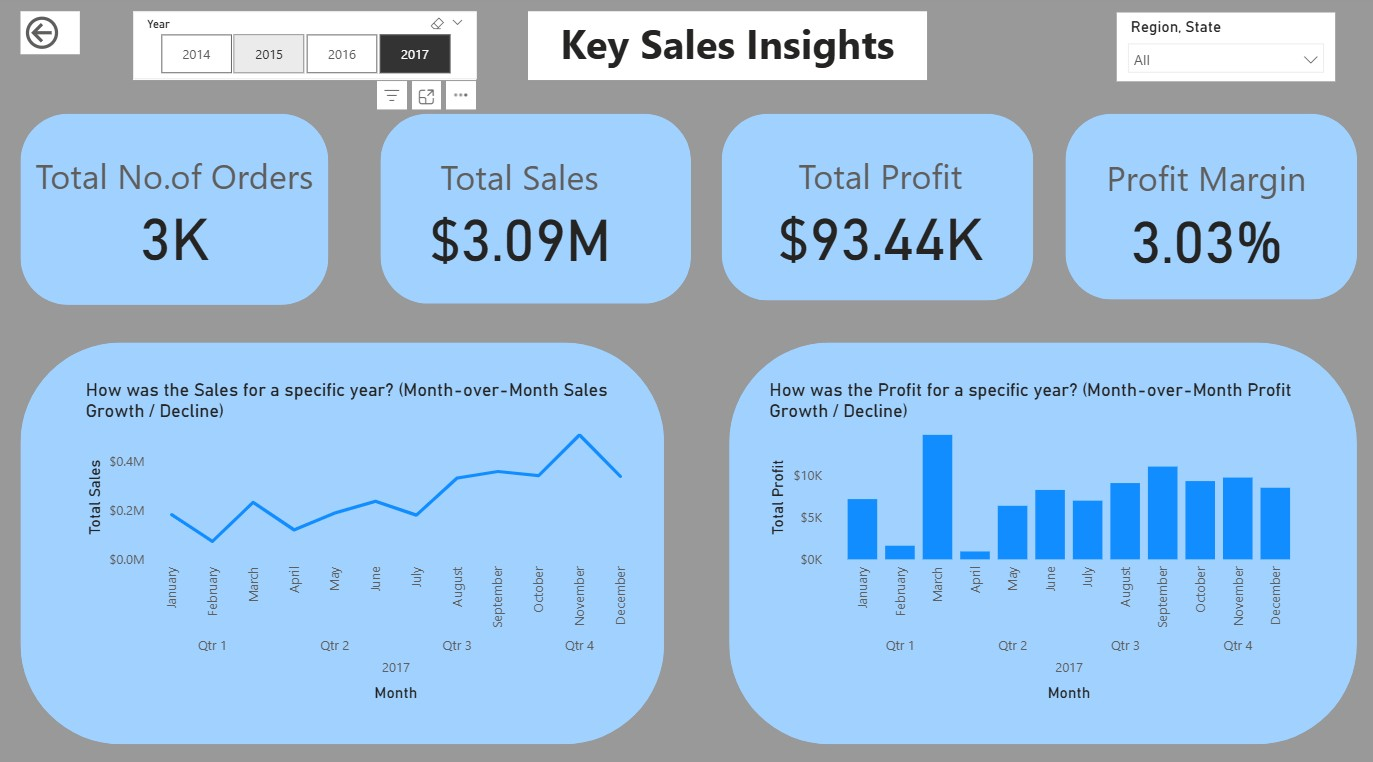

What the dashboard file says about the page in this screenshot:
{"tool":"powerbi","page":{"name":"Key Sales Insight","canvas":[1280,720],"ordinal":1},"visuals":[{"type":"shape","box":[992.7,111,271.2,172.8],"z":0,"group":"g2"},{"type":"shape","box":[680,323.8,583.8,373.8],"z":0},{"type":"shape","box":[673.6,111,289.8,173.8],"z":1000,"group":"g1"},{"type":"shape","box":[21.2,323.8,598.8,373.8],"z":1000},{"type":"lineChart","title":"How was the Sales Trend?","fields":{"Y":["_All Measures.Total Sales"],"Category":["Date Table (Order Date).Date.Variation.Date Hierarchy.Year","Date Table (Order Date).Date.Variation.Date Hierarchy.Quarter","Date Table (Order Date).Date.Variation.Date Hierarchy.Month"]},"box":[76.2,357.5,522.5,305],"z":2000},{"type":"columnChart","title":"How was the Profit Trend?","fields":{"Category":["Date Table (Order Date).Date.Variation.Date Hierarchy.Year","Date Table (Order Date).Date.Variation.Date Hierarchy.Quarter","Date Table (Order Date).Date.Variation.Date Hierarchy.Month"],"Y":["_All Measures.Total Profit"]},"box":[712.5,357.5,508.8,305],"z":3000},{"type":"shape","box":[21.4,111,286.3,177.8],"z":4000,"group":"g4"},{"type":"shape","box":[356.3,111,288.8,176.6],"z":4000,"group":"g3"},{"type":"group","id":"g1","title":"Group 2","box":[673.6,111,290.1,172.8],"z":4000},{"type":"cardVisual","fields":{"Data":["_All Measures.Total Profit"]},"box":[691.6,129.4,258.2,139.9],"z":4000,"group":"g1"},{"type":"group","id":"g2","title":"Group 3","box":[992.7,111,271.2,172.8],"z":5000},{"type":"cardVisual","fields":{"Data":["_All Measures.Profit Margin"]},"box":[1003.9,131.6,239.6,136.5],"z":5000,"group":"g2"},{"type":"group","id":"g3","title":"Group 1","box":[341.8,111,302.7,176.6],"z":6000},{"type":"cardVisual","fields":{"Data":["_All Measures.Total No.of  Orders"]},"box":[16.4,129.9,296.4,142.5],"z":6000,"group":"g4"},{"type":"cardVisual","fields":{"Data":["_All Measures.Total Sales"]},"box":[341.8,131,288,142],"z":6000,"group":"g3"},{"type":"textbox","box":[493.2,15.1,370.8,64.3],"z":7000},{"type":"actionButton","box":[21.1,15.6,55.6,40],"z":8000},{"type":"slicer","fields":{"Values":["Customer Table.Region","Customer Table.State"]},"box":[1040.6,16.4,203.1,64.3],"z":9000},{"type":"slicer","fields":{"Values":["Date Table (Order Date).Year"]},"box":[126.1,15.1,319.1,64.3],"z":10000},{"type":"group","id":"g4","title":"Group 4","box":[16.4,111,296.4,177.8],"z":11000}]}

Visuals, with their boxes on the page's 1280x720 design canvas (x1, y1, x2, y2). These are canvas units, not pixel positions in the 1373x762 screenshot, which may show the page scaled, cropped or inside an application window:
shape: BBox(993, 111, 1264, 284)
shape: BBox(680, 324, 1264, 698)
shape: BBox(674, 111, 963, 285)
shape: BBox(21, 324, 620, 698)
"How was the Sales Trend?" lineChart: BBox(76, 358, 599, 662)
"How was the Profit Trend?" columnChart: BBox(712, 358, 1221, 662)
shape: BBox(21, 111, 308, 289)
shape: BBox(356, 111, 645, 288)
"Group 2" group: BBox(674, 111, 964, 284)
cardVisual - _All Measures.Total Profit: BBox(692, 129, 950, 269)
"Group 3" group: BBox(993, 111, 1264, 284)
cardVisual - _All Measures.Profit Margin: BBox(1004, 132, 1244, 268)
"Group 1" group: BBox(342, 111, 644, 288)
cardVisual - _All Measures.Total No.of  Orders: BBox(16, 130, 313, 272)
cardVisual - _All Measures.Total Sales: BBox(342, 131, 630, 273)
textbox: BBox(493, 15, 864, 79)
actionButton: BBox(21, 16, 77, 56)
slicer - Customer Table.Region x Customer Table.State: BBox(1041, 16, 1244, 81)
slicer - Date Table (Order Date).Year: BBox(126, 15, 445, 79)
"Group 4" group: BBox(16, 111, 313, 289)
